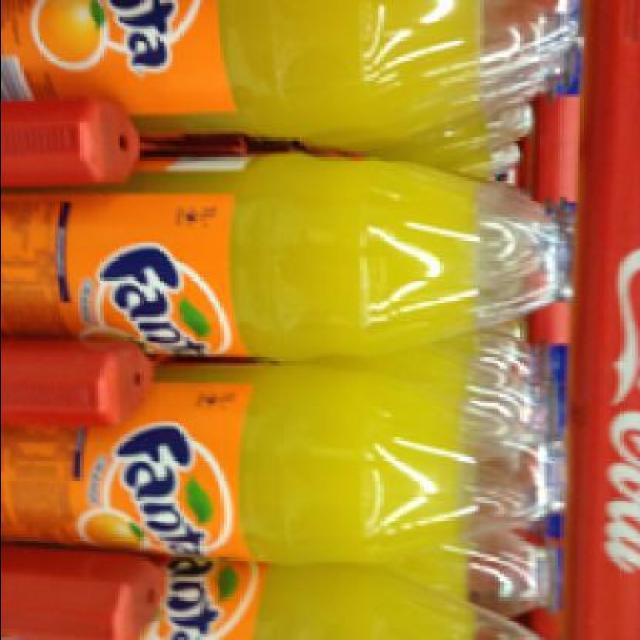Fanta: (6, 154, 577, 357), (3, 363, 574, 563), (1, 1, 584, 136)
